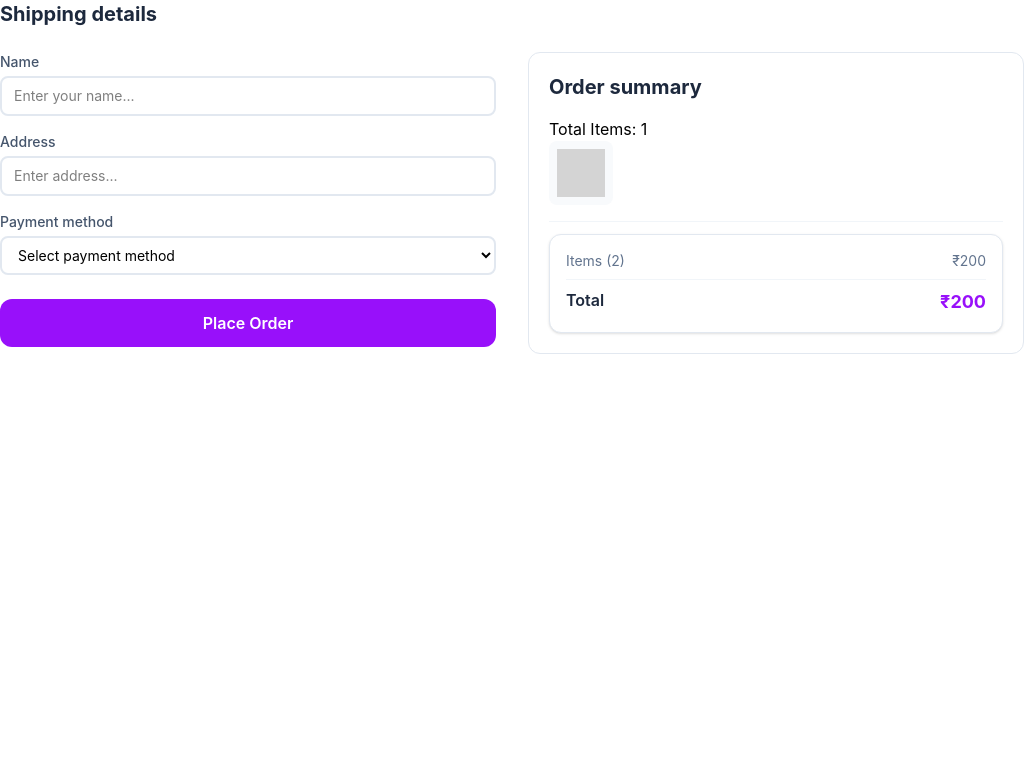
it: Checkout flow › shows a confirmation dialog before placing the order, and places it on confirm
The width and height of the screenshot is (1024, 768).
Type "Sarah" into the field with placeholder "Enter your name..." at coordinates (248, 96), box [0,76,496,116]
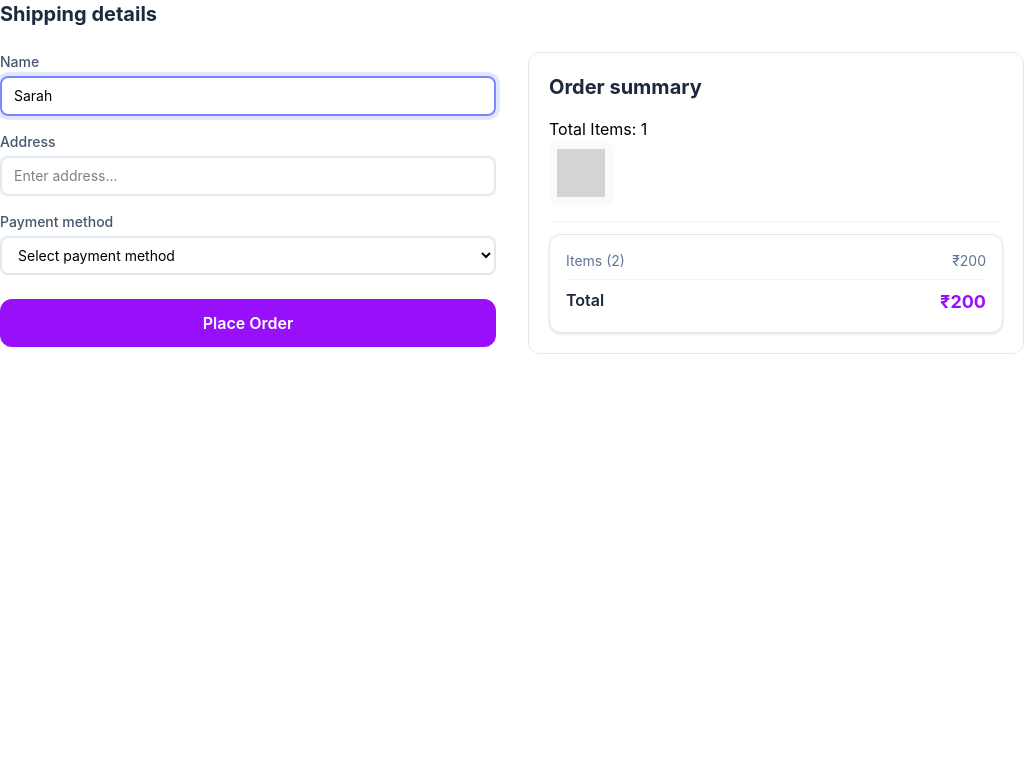
Type "123 Test St" into the field with placeholder "Enter address..." at coordinates (248, 176), box [0,156,496,196]
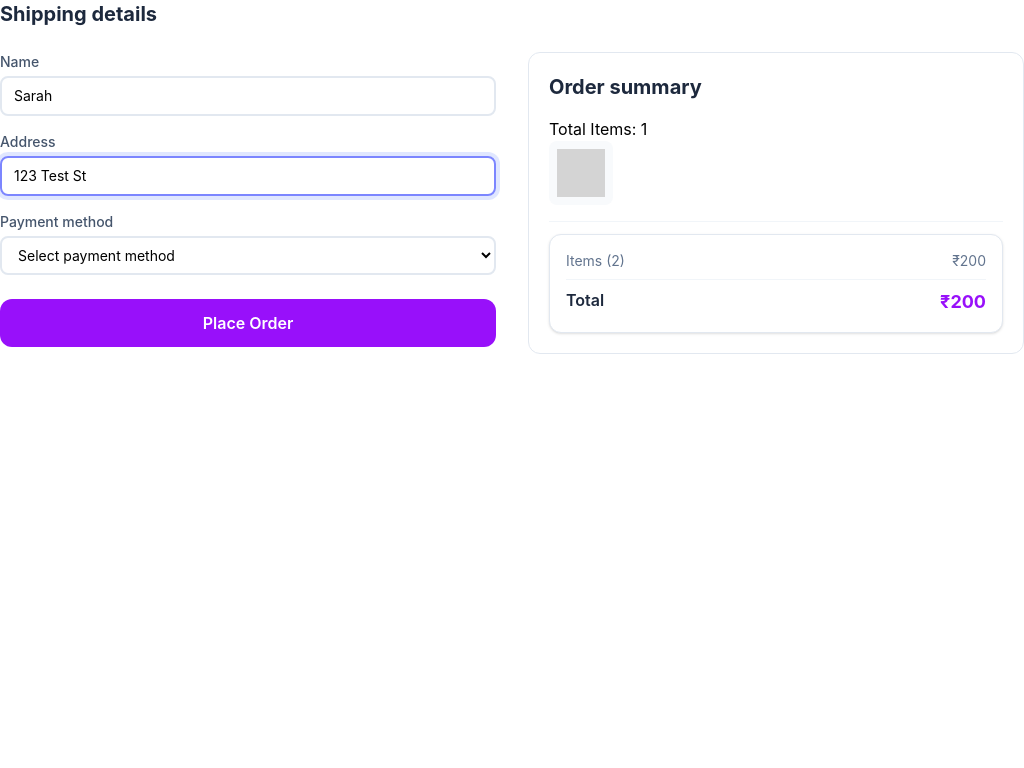
Select "UPI" in the dropdown at coordinates (248, 256), box [0,236,496,275]
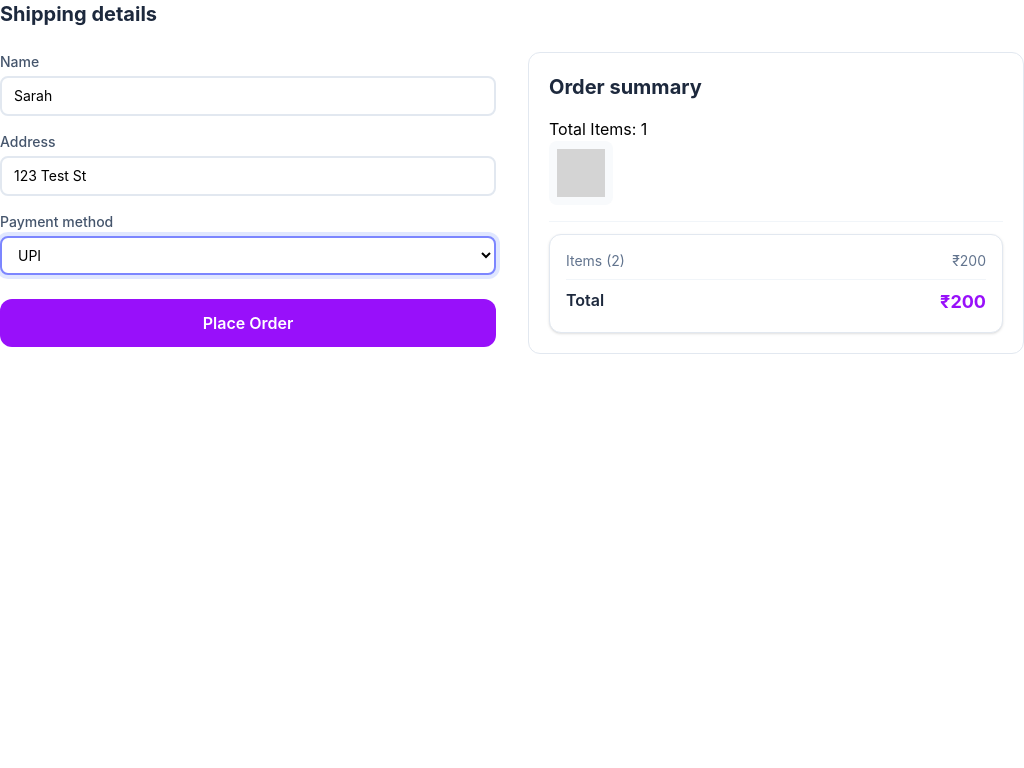
Click the button "Place Order" at coordinates (248, 323), box [0,299,496,347]
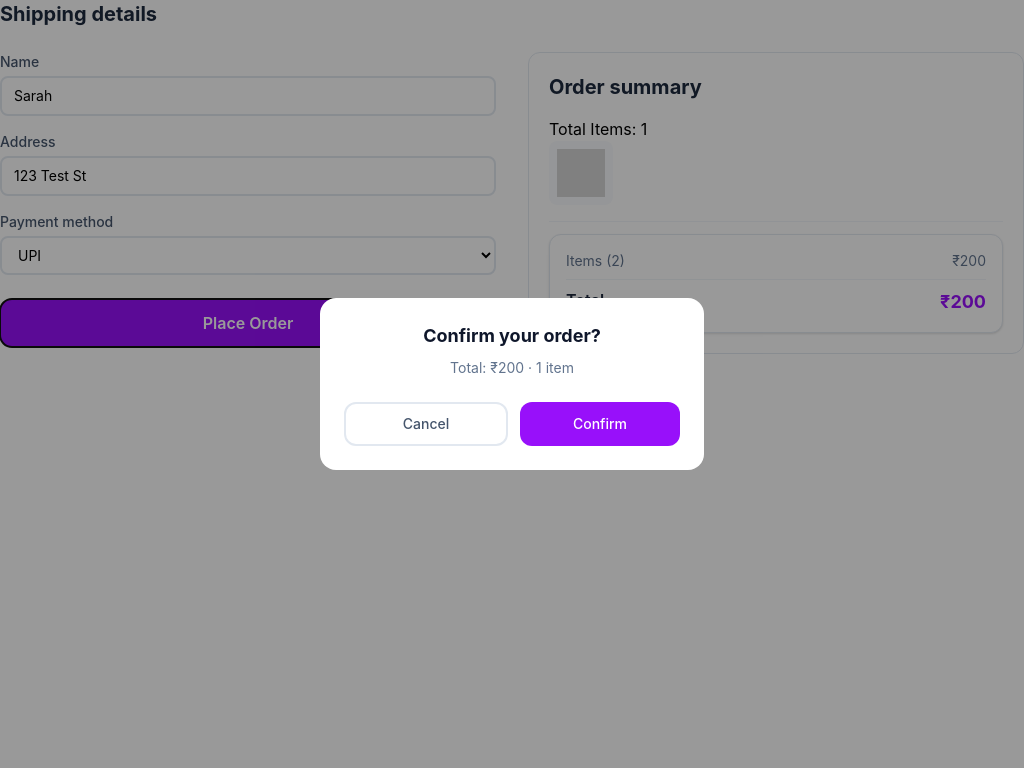
expect the heading "Confirm your order?" is shown: met, box [423,325,601,346]
Click the button "Confirm" at coordinates (600, 424), box [520,402,680,446]
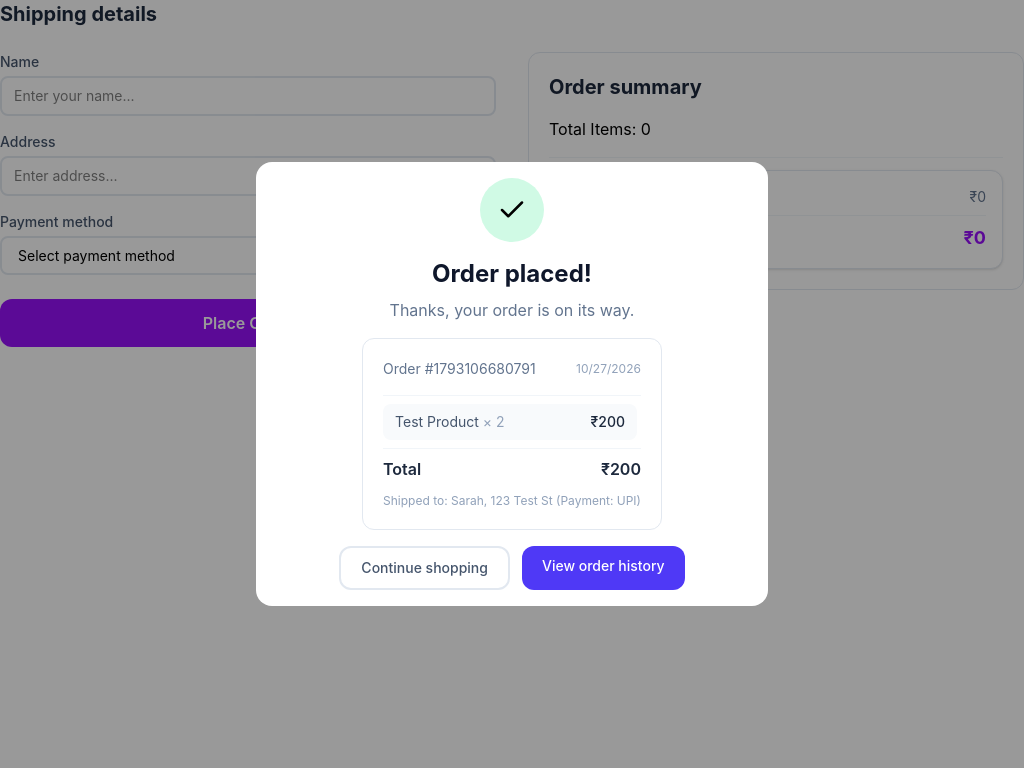
expect the text "₹200" in the row of "Test Product" is shown: met, box [590,412,625,432]
expect the heading "Order placed!" is shown: met, box [432,258,592,290]
expect the text "Test Product × 2" is shown: met, box [395,413,504,430]
